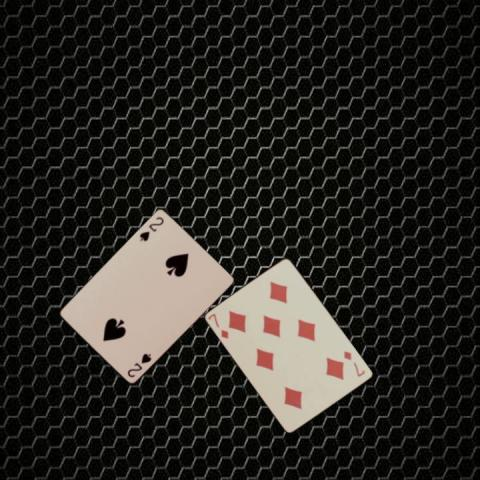2s: (124, 351, 153, 379), (137, 214, 165, 243)
7d: (340, 348, 366, 378), (205, 311, 230, 340)
